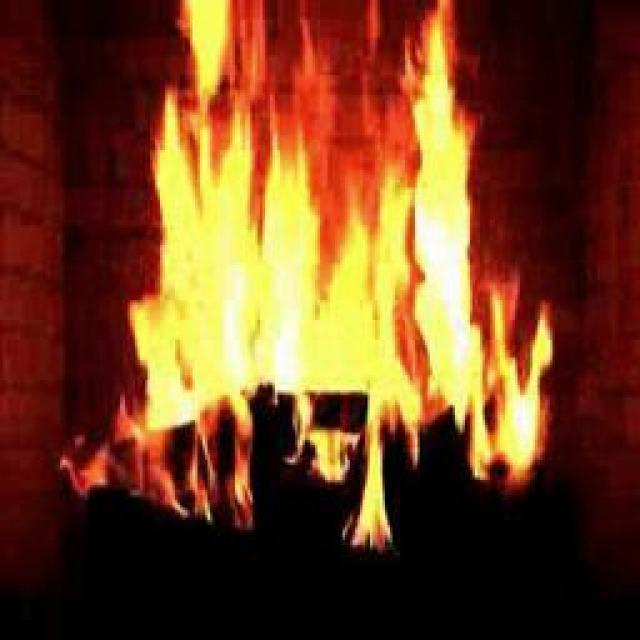Fire: (150, 69, 523, 471)
